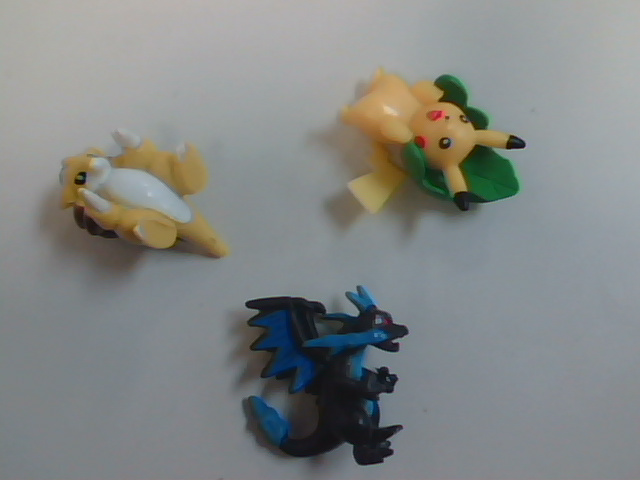charizard: (225, 286, 451, 480)
pikachu: (336, 53, 540, 260)
sandslash: (53, 88, 235, 283)
